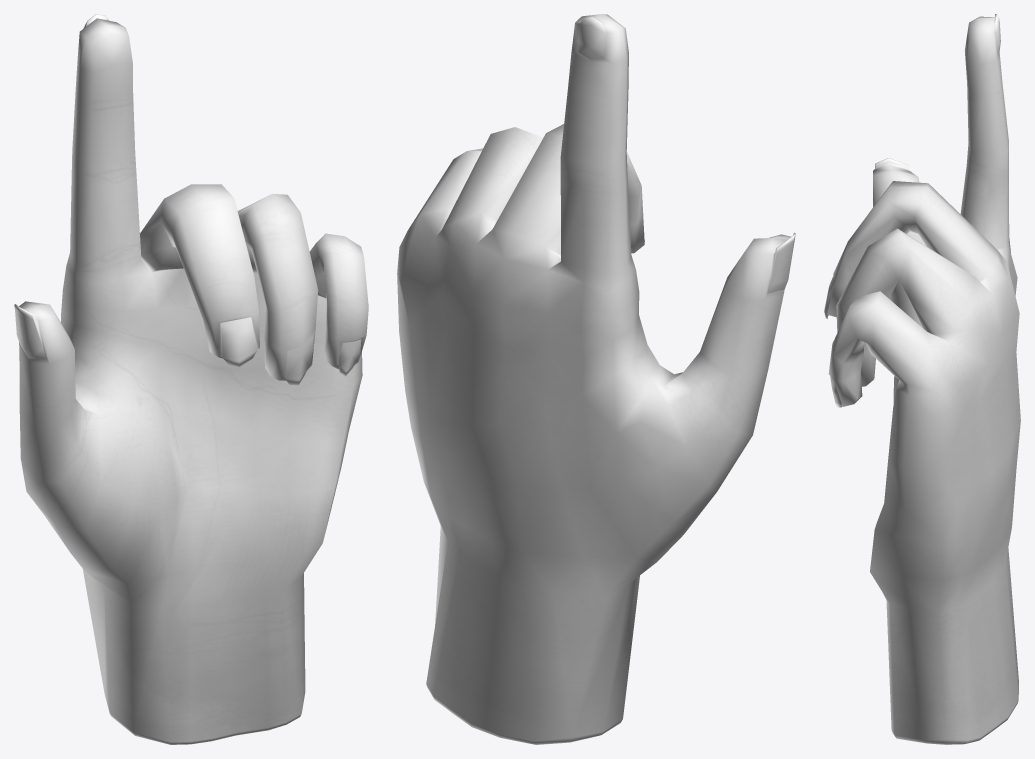
File: l_smooth_point1.glb
The picture shows the model from 3 angles, left to right: view 1: azimuth 30°, elevation 25°; view 2: azimuth 150°, elevation 25°; view 3: azimuth 270°, elevation 25°; orthographic projection. The views are drawn at different scales.
Visible parts, largest first — view 1: L_Smooth_Point1; view 2: L_Smooth_Point1; view 3: L_Smooth_Point1.
Part boxes in pixels (x1=…): L_Smooth_Point1: x1=14, y1=14, x2=368, y2=744; L_Smooth_Point1: x1=397, y1=14, x2=795, y2=744; L_Smooth_Point1: x1=824, y1=14, x2=1020, y2=744.
Size of the model in its own units: 0.1278 by 0.2444 by 0.0655.
1 material, 1 textured.
